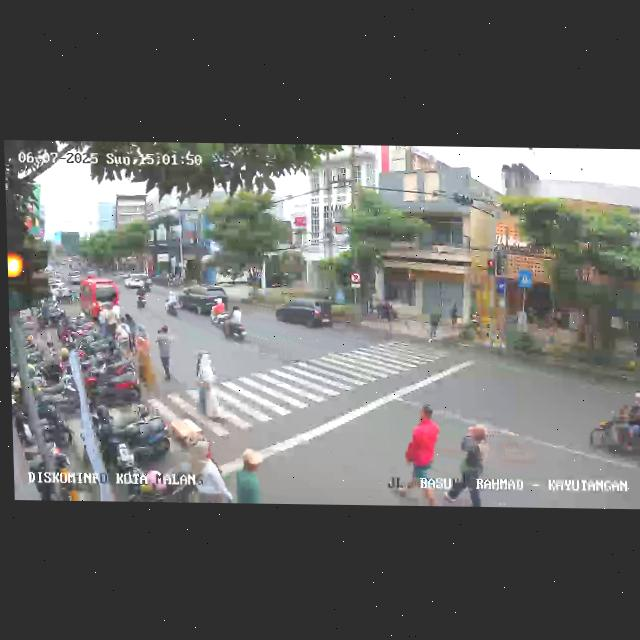car: (275, 297, 334, 334), (79, 277, 120, 320), (179, 284, 228, 316), (123, 273, 152, 289)
motorcycle: (589, 393, 640, 465), (223, 306, 248, 343), (209, 299, 229, 327), (165, 290, 181, 317), (135, 283, 148, 311)
person: (401, 407, 441, 505), (454, 424, 491, 506), (190, 441, 230, 503), (234, 443, 268, 504), (193, 349, 220, 417), (156, 325, 177, 388), (133, 328, 152, 384), (427, 311, 441, 348)
